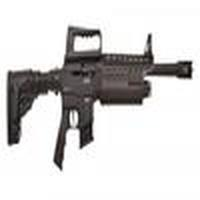gun: (2, 28, 200, 145)
